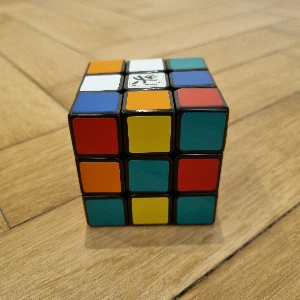cube: (68, 57, 229, 227)
